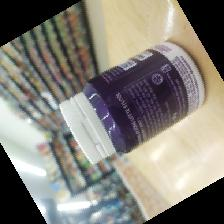Xylitol_BTS: (58, 40, 206, 165)
